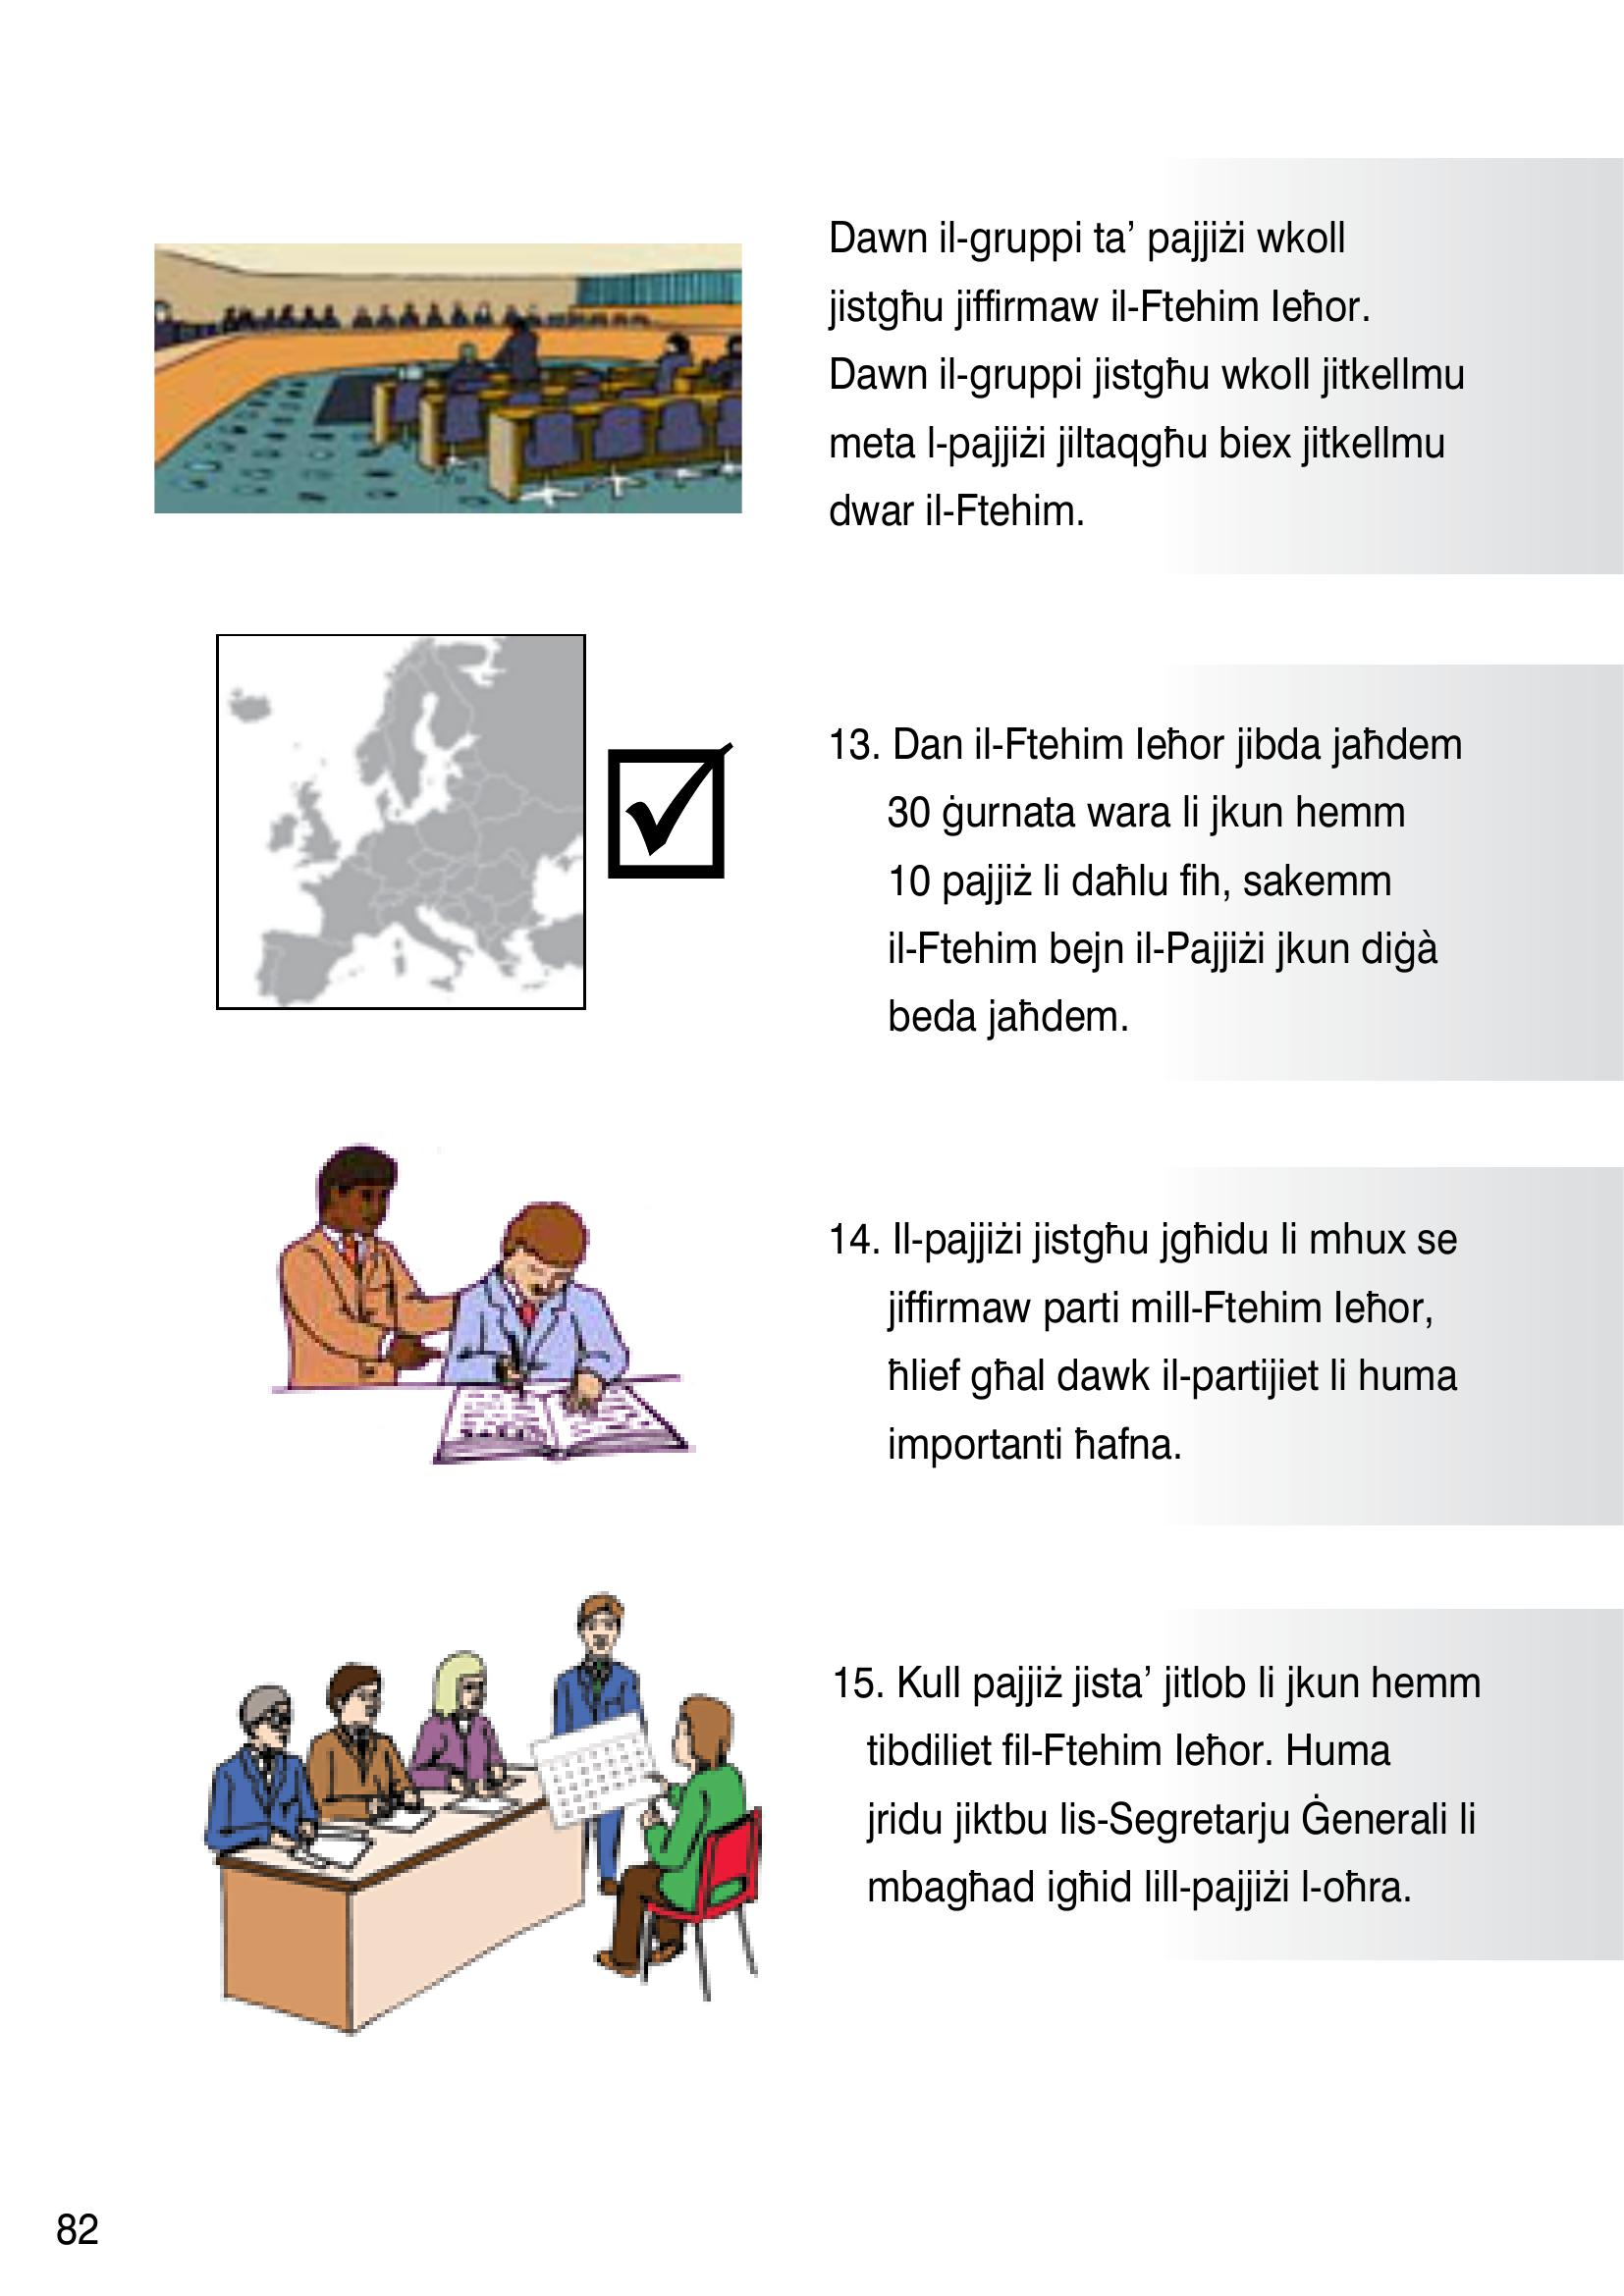text: (808, 193, 1534, 1946)
